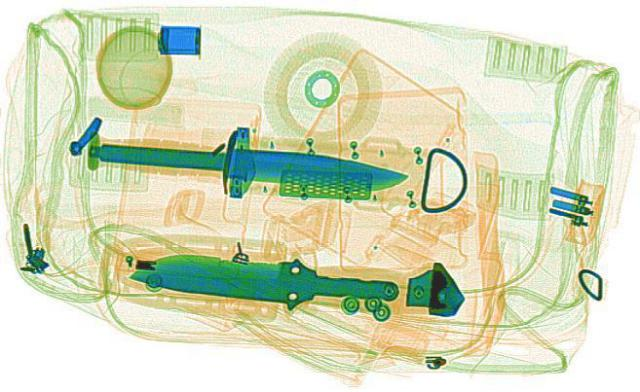Knife: (89, 132, 411, 193), (122, 245, 404, 314)
